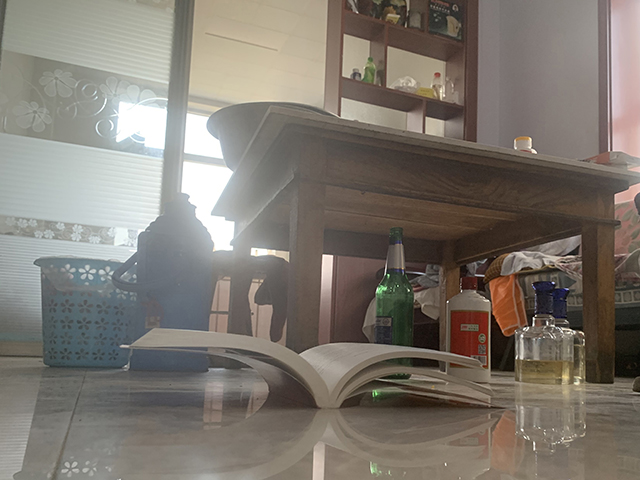book: (118, 326, 509, 411)
table: (209, 104, 640, 385)
trashcan: (32, 255, 137, 370)
